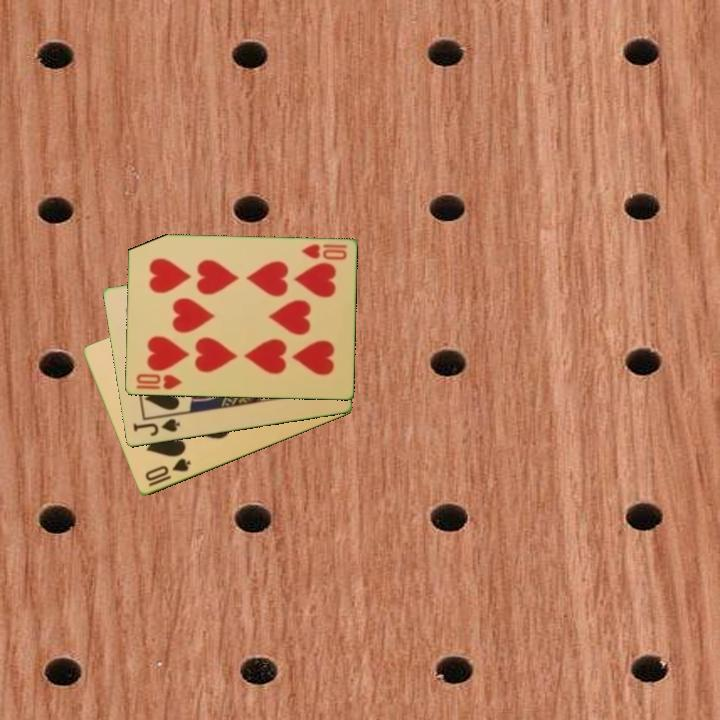10h: (132, 371, 184, 393), (298, 241, 349, 263)
10s: (141, 455, 194, 490)
Js: (129, 415, 183, 439)
